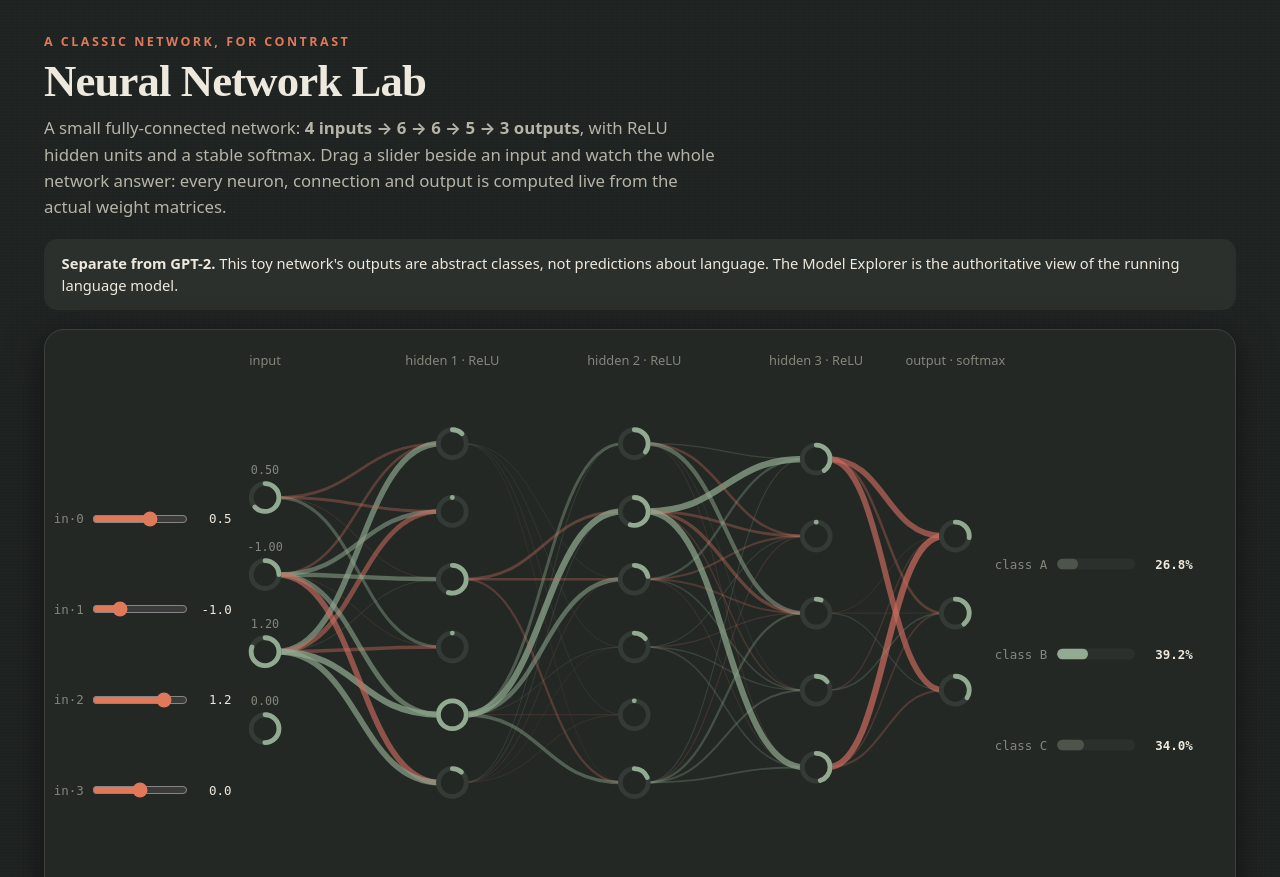
Test case: Neural Network Lab › moving an input changes the output probabilities
This screenshot has width=1280, height=877.
Set the slider labelled "in·1 -1.0" to "-2" at point(100, 609), box [92,601,188,617]
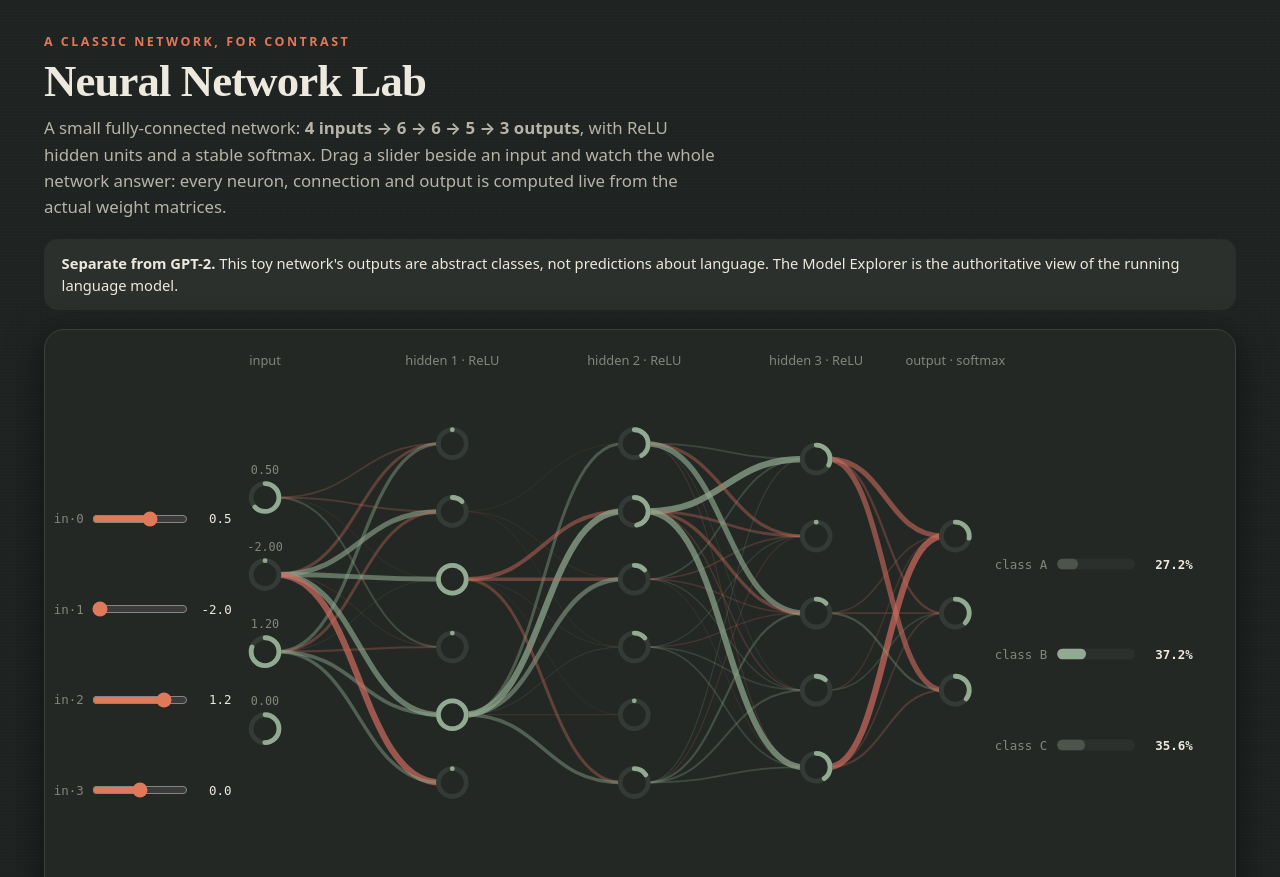
Result: the text "-2.0" is shown at [196,602,232,617]
